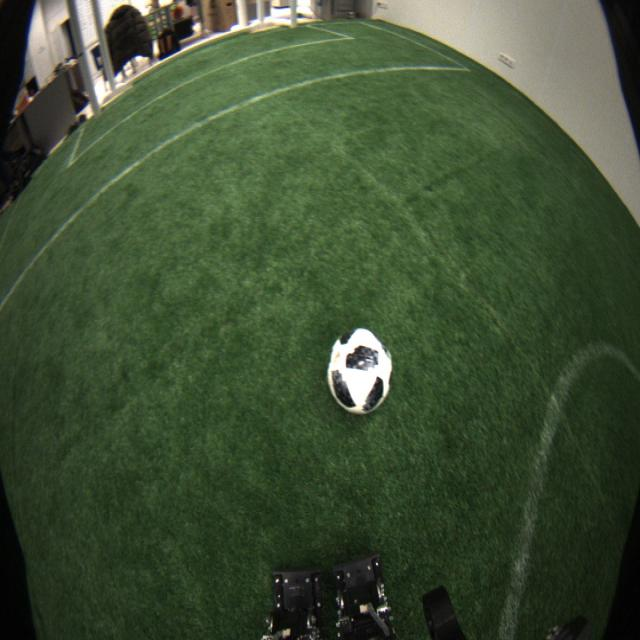ball: (328, 325, 393, 417)
goalpost: (66, 2, 102, 118), (289, 1, 298, 29)
